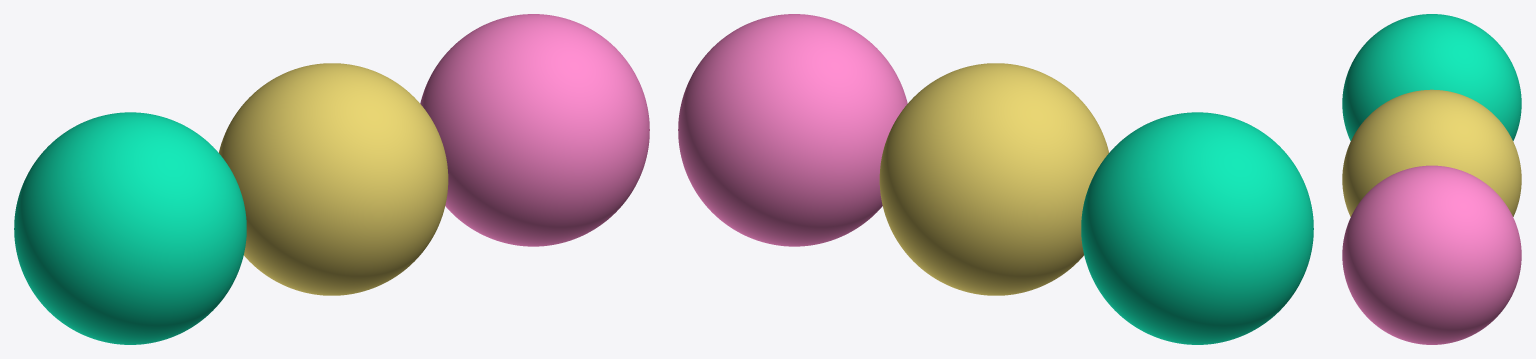
Rendered from ball.glb.
3 views of the same model, side by side, from view 1: azimuth 30°, elevation 25°; view 2: azimuth 150°, elevation 25°; view 3: azimuth 270°, elevation 25° (orthographic). The views are drawn at different scales.
Parts seen in each view (by area): view 1: ICO球.001, ICO球, ICO球.002; view 2: ICO球.001, ICO球, ICO球.002; view 3: ICO球.002, ICO球.001, ICO球.
Part boxes in pixels (x1=…): ICO球.001: x1=14, y1=112, x2=246, y2=344; ICO球: x1=219, y1=63, x2=448, y2=295; ICO球.002: x1=420, y1=14, x2=649, y2=246; ICO球.001: x1=1081, y1=112, x2=1313, y2=344; ICO球: x1=879, y1=63, x2=1108, y2=295; ICO球.002: x1=678, y1=14, x2=907, y2=246; ICO球.002: x1=1342, y1=165, x2=1521, y2=344; ICO球.001: x1=1342, y1=14, x2=1521, y2=140; ICO球: x1=1342, y1=89, x2=1521, y2=216.
Size of the model in its own units: 6 by 2 by 2.
